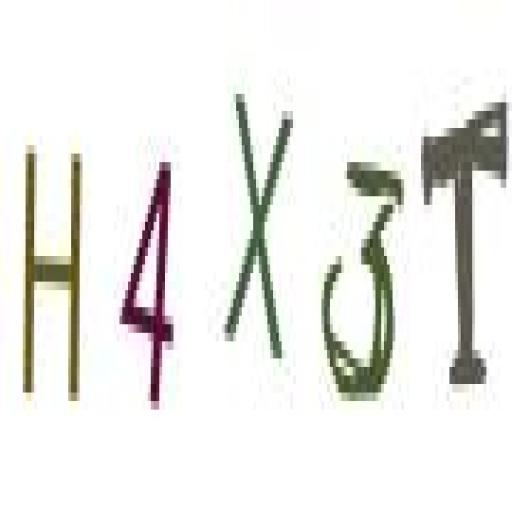3: (320, 120, 406, 440)
4: (111, 120, 185, 434)
H: (20, 130, 88, 428)
T: (414, 79, 510, 417)
X: (222, 62, 294, 391)
